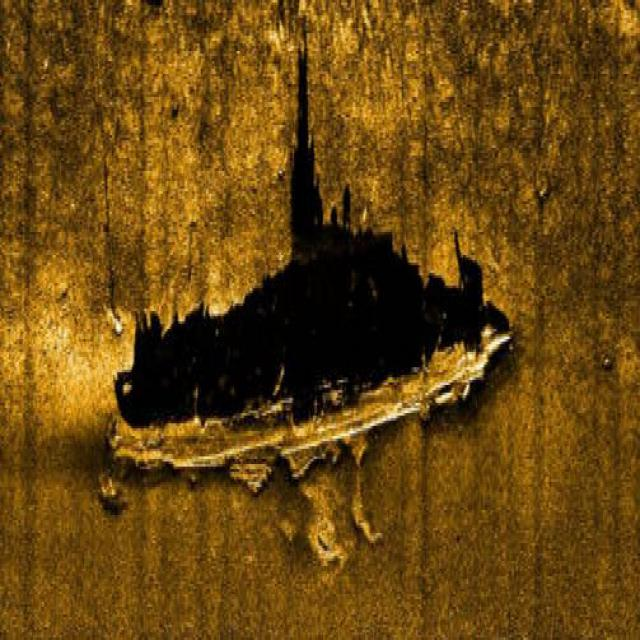ship: (106, 324, 509, 477)
